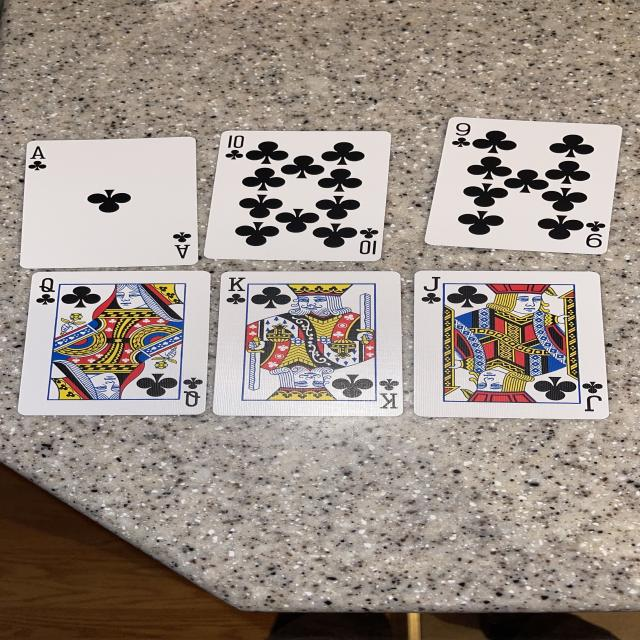10 of clubs: (204, 130, 391, 261)
9 of clubs: (424, 118, 622, 254)
Ace of clubs: (20, 138, 198, 269)
Jack of clubs: (413, 271, 609, 419)
King of clubs: (213, 271, 402, 416)
Queen of clubs: (18, 271, 211, 415)
